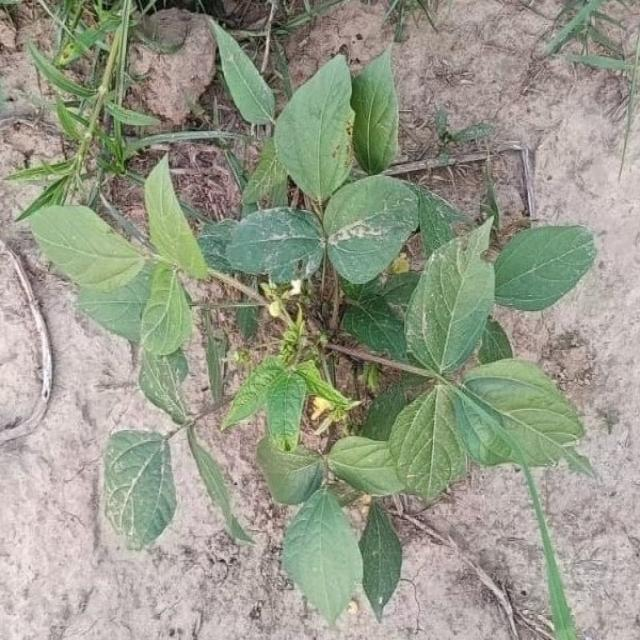plant: (29, 25, 597, 623), (105, 434, 176, 551), (206, 328, 226, 404)
